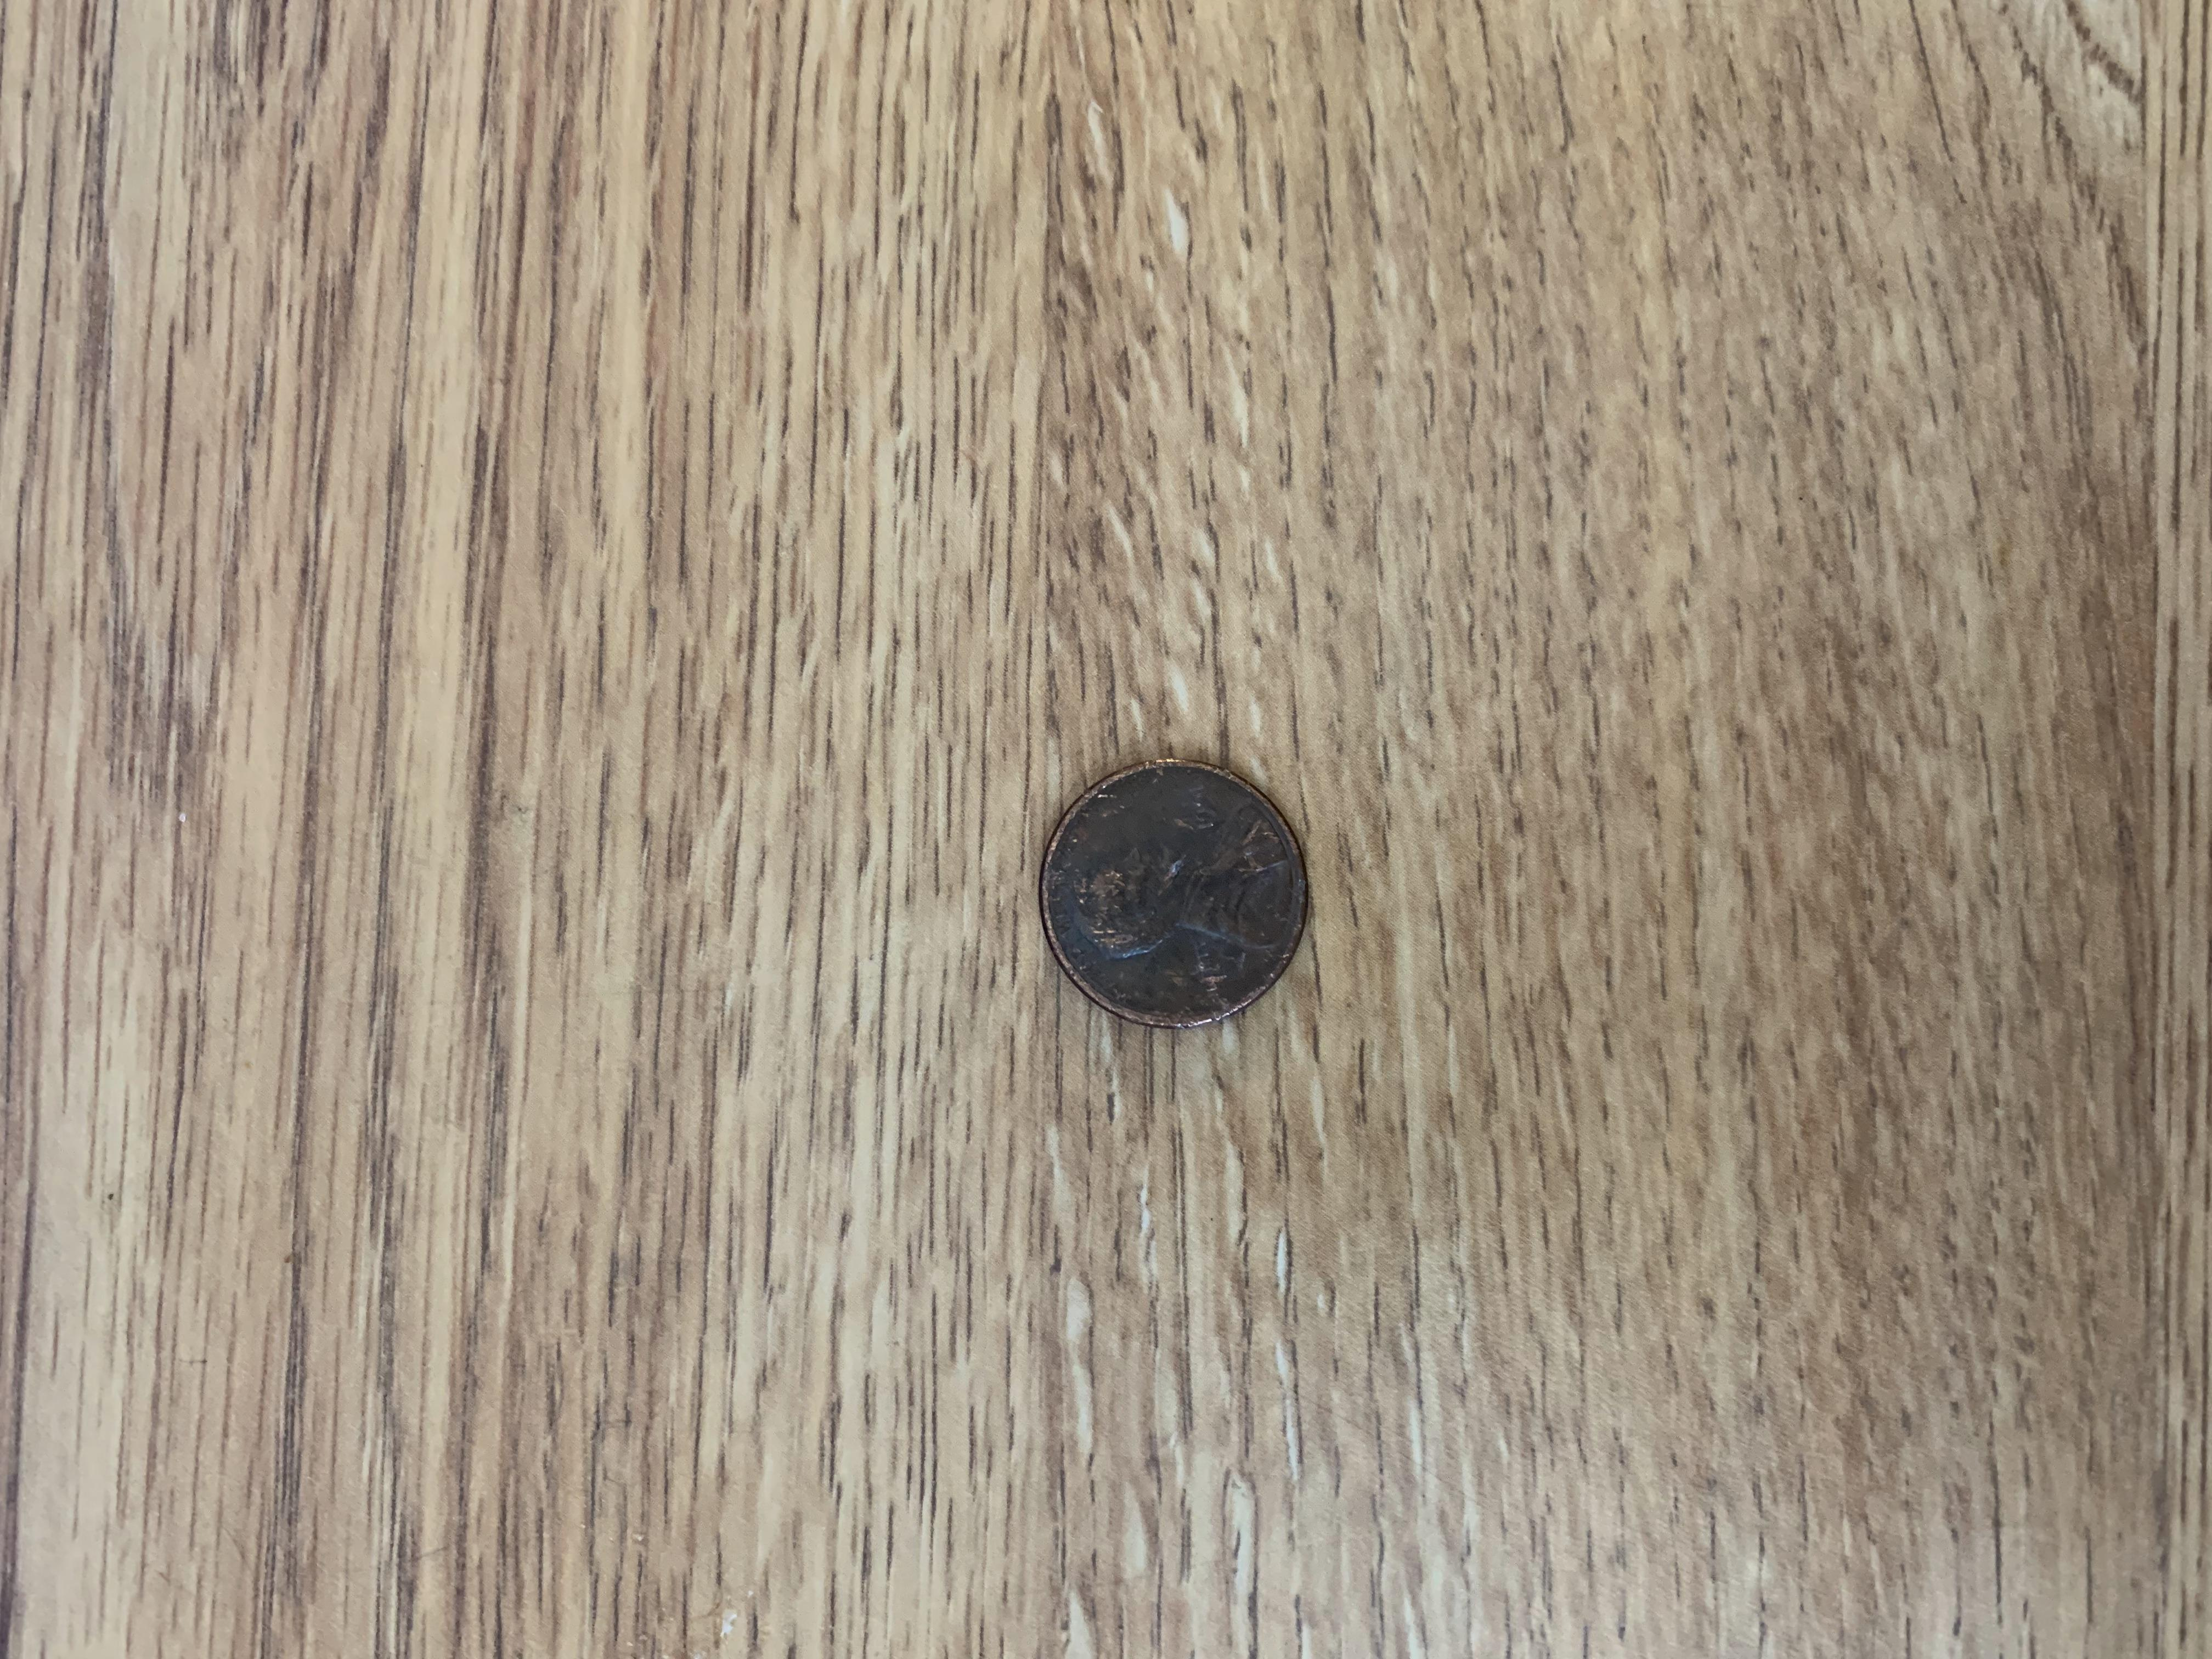Penny: (1021, 748, 1324, 1037)
